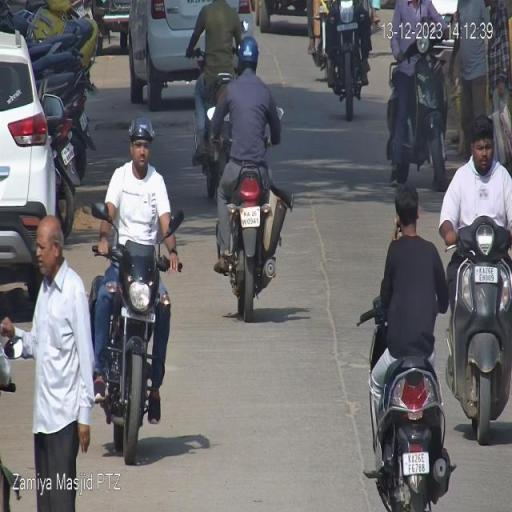using mobile: (390, 212, 404, 242)
